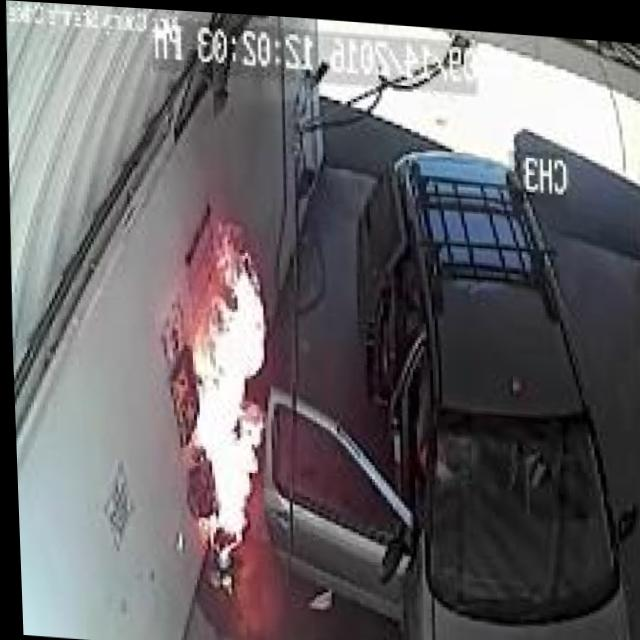fire: (161, 219, 282, 600)
